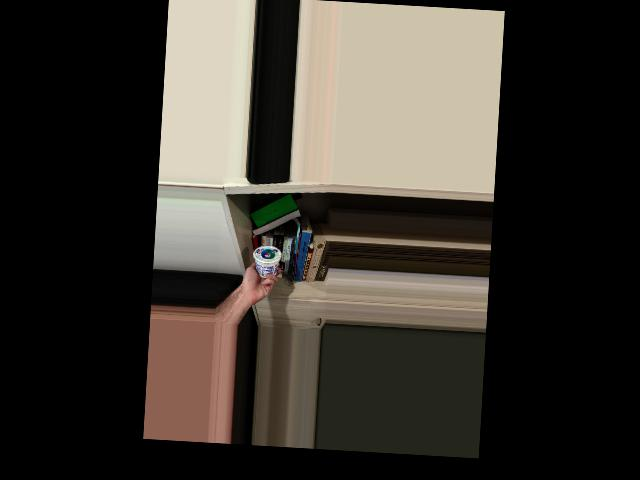cotage: (252, 243, 282, 284)
